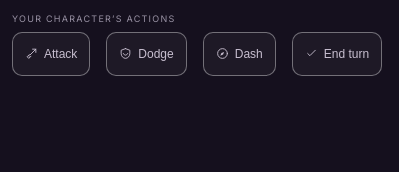
the Attack menu goes with the turn (Tora M-5) › open on your turn; the fight turns held; the menu is gone
Click the button "Attack" at (51, 54), box x1=12 y1=32 x2=90 y2=76
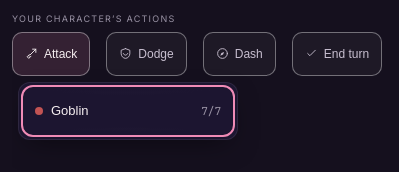
Expected: the menu named "pick a target" is shown, x1=18 y1=82 x2=238 y2=140
